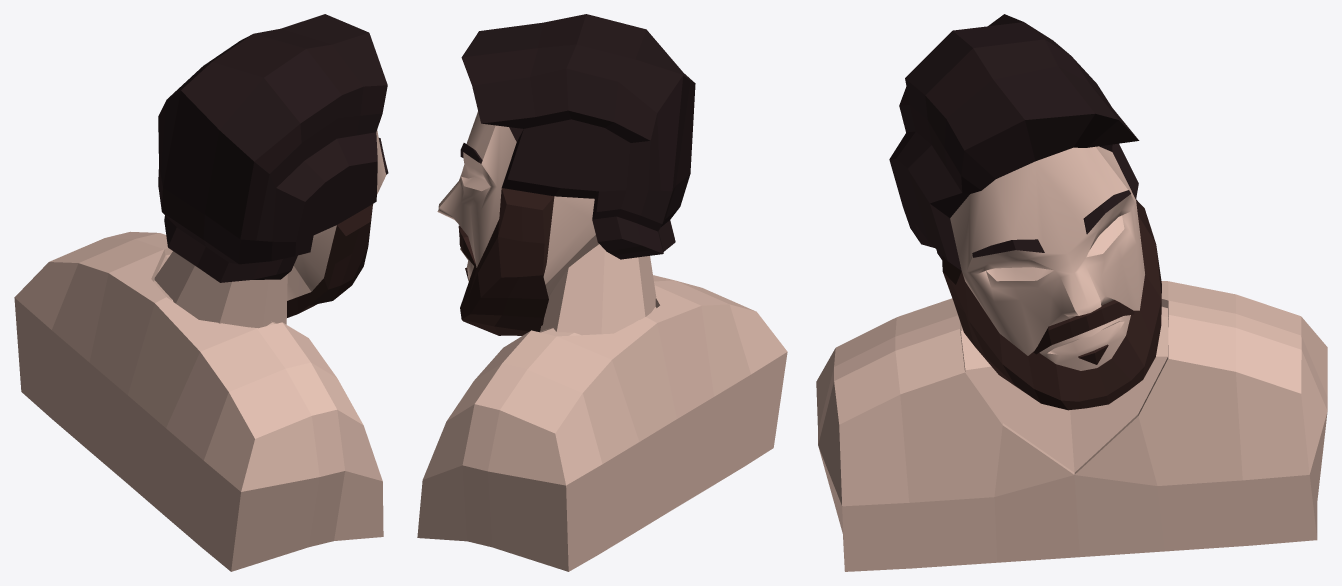
Rendered from Low-poly_Head.glb.
3 views of the same model, side by side, from view 1: azimuth 30°, elevation 25°; view 2: azimuth 150°, elevation 25°; view 3: azimuth 270°, elevation 25° (orthographic). The views are drawn at different scales.
Parts seen in each view (by area): view 1: unnamed (×5); view 2: unnamed (×5); view 3: unnamed (×5).
Part boxes in pixels (x1=…): unnamed (×5): x1=14, y1=14, x2=388, y2=571; unnamed (×5): x1=417, y1=14, x2=787, y2=571; unnamed (×5): x1=816, y1=14, x2=1327, y2=571.
Size of the model in its own units: 3.11 by 5.69 by 5.15.
